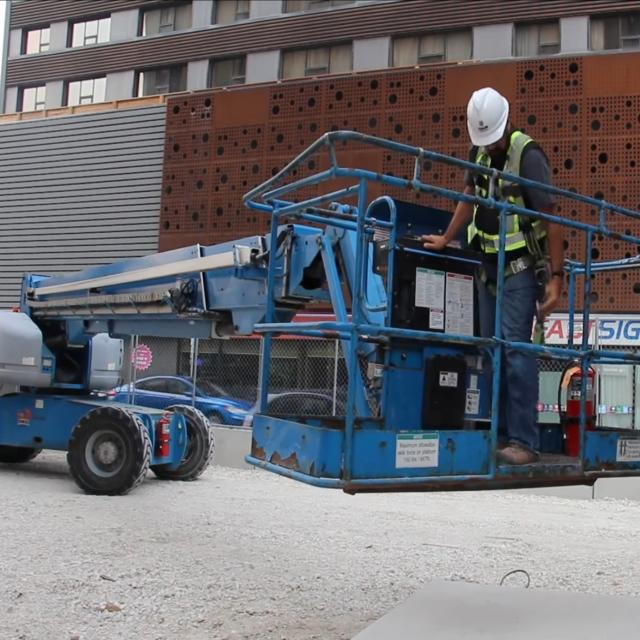2m above platform: (3, 126, 639, 503)
Belt: (468, 127, 537, 295)
worker: (451, 79, 559, 462)
